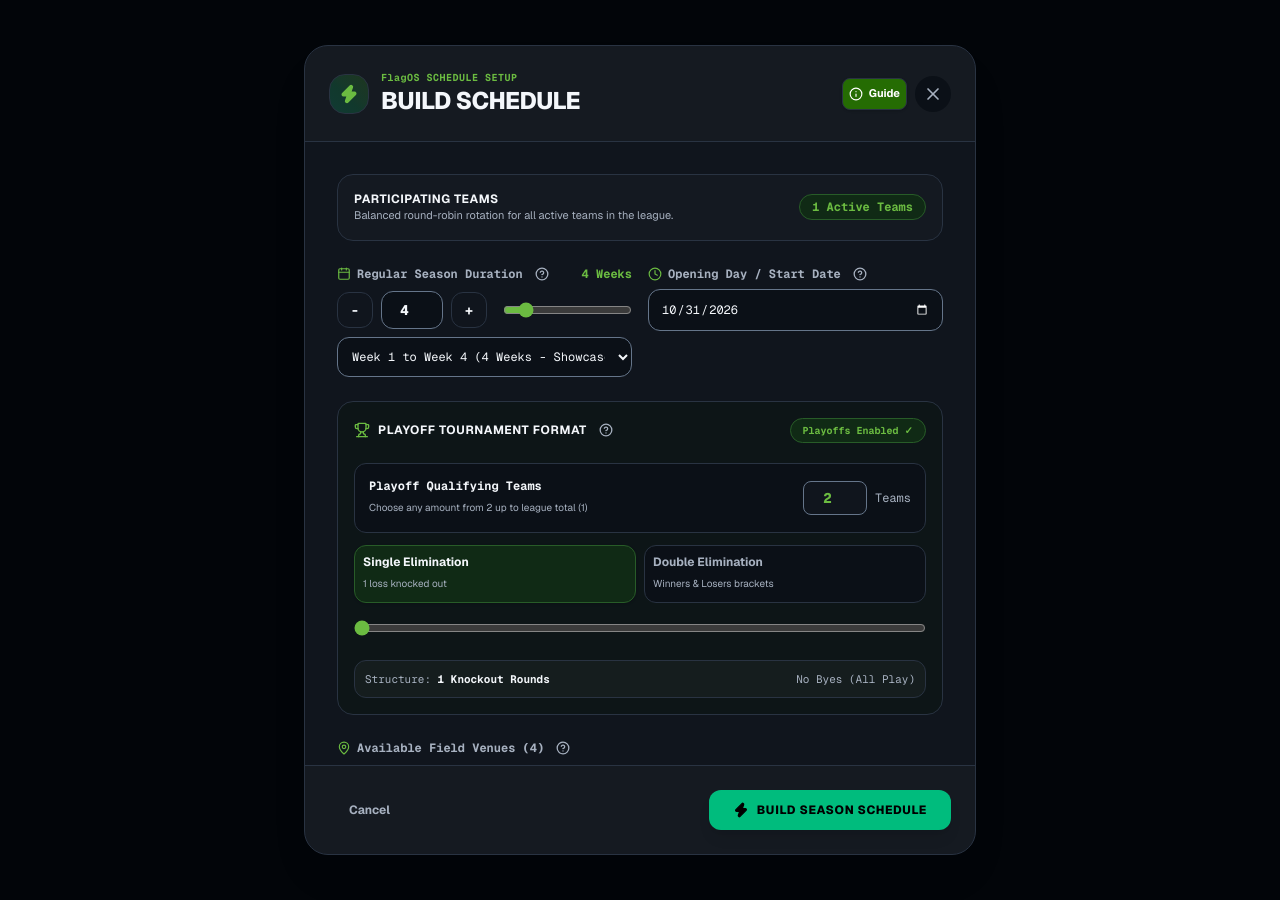
Test: Schedule Modals Comprehensive Suite › AutomatedScheduleBuilderModal › shows an inline error when fewer than 2 teams are present
Click the button "Build Season Schedule": (830, 810) [709, 790, 951, 830]
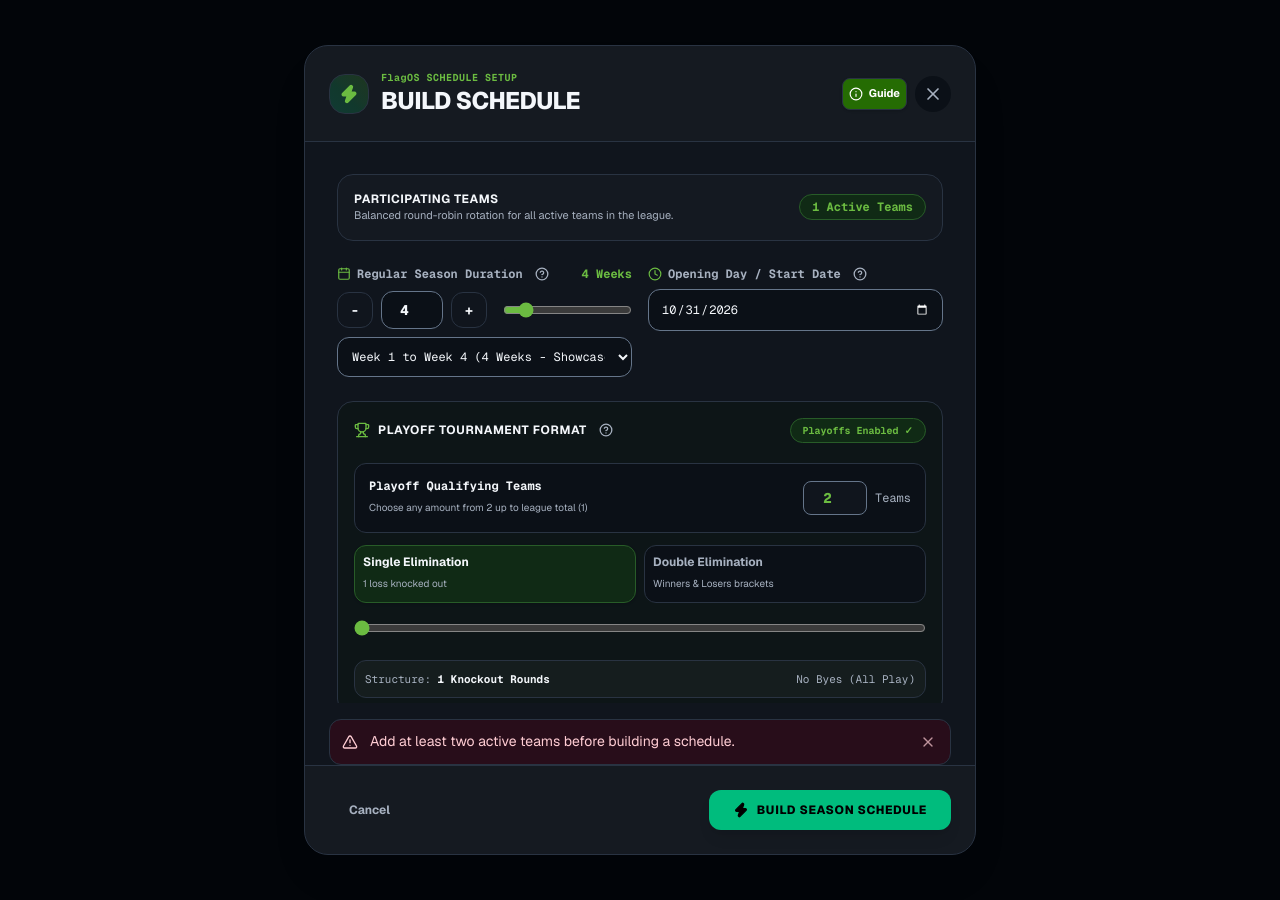
Check: the message reads "Add at least two active teams before building a schedule.", box [370, 732, 734, 750]
